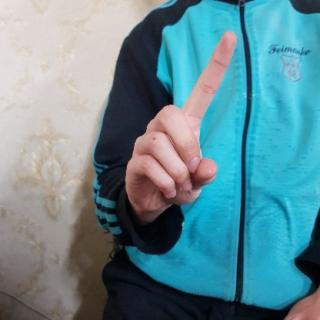BAA: (118, 28, 240, 224)
